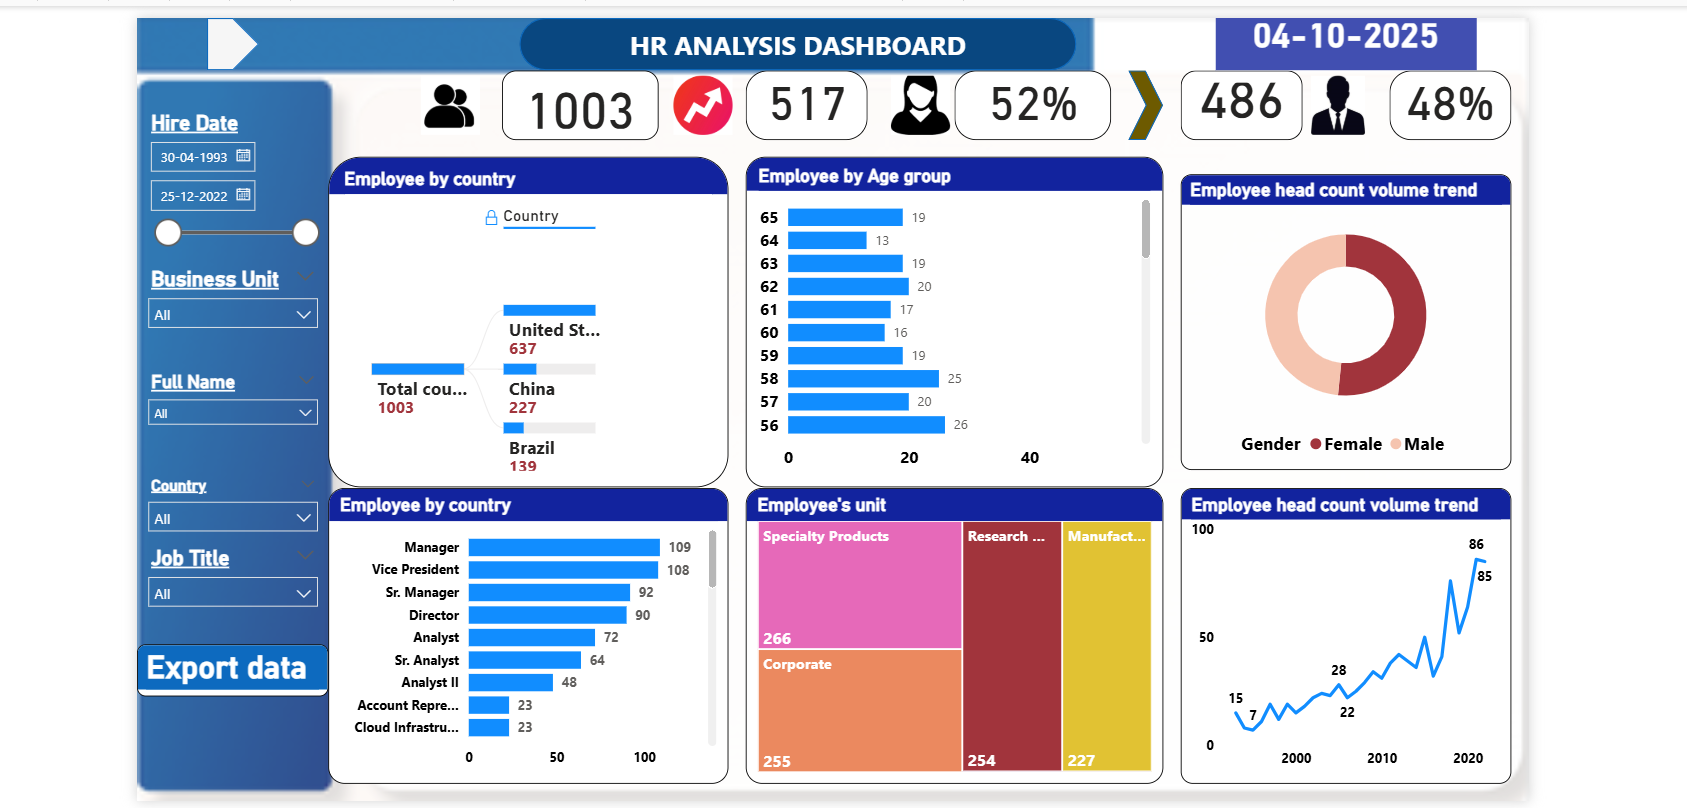

The dashboard page shown, as its layout file describes it:
{"tool":"powerbi","page":{"name":"HR Analysis","canvas":[1280,720],"ordinal":0},"visuals":[{"type":"card","fields":{"Values":["Employee Data.total_count"]},"box":[336,48,144,64],"z":0},{"type":"image","box":[240,48,96,64],"z":1000},{"type":"lineChart","title":"Employee head count volume trend","fields":{"Category":["Employee Data.Hire Date.Variation.Date Hierarchy.Year"],"Y":["CountNonNull(Employee Data.Employee ID)"]},"box":[960,432,304,272],"z":2000},{"type":"donutChart","title":"Employee head count volume trend","fields":{"Y":["CountNonNull(Employee Data.Employee ID)"],"Category":["Employee Data.Gender"]},"box":[960,144,304,272],"z":3000},{"type":"clusteredBarChart","title":"Employee by Age group","fields":{"Category":["Employee Data.Age"],"Y":["CountNonNull(Employee Data.Employee ID)"]},"box":[560,128,384,304],"z":4000},{"type":"decompositionTreeVisual","title":"Employee by country","fields":{"ExplainBy":["Employee Data.Country"],"Analyze":["CountNonNull(Employee Data.Country)"]},"box":[176,128,368,304],"z":5000},{"type":"treemap","title":"Employee''s unit","fields":{"Group":["Employee Data.Business Unit"],"Values":["CountNonNull(Employee Data.Employee ID)"]},"box":[560,432,384,272],"z":6000},{"type":"clusteredBarChart","title":"Employee by country","fields":{"Category":["Employee Data.Job Title"],"Y":["CountNonNull(Employee Data.Employee ID)"]},"box":[176,432,368,272],"z":7000},{"type":"image","box":[688,48,64,64],"z":8000},{"type":"card","fields":{"Values":["Employee Data.total_female_count"]},"box":[560,48,112,64],"z":9000},{"type":"image","box":[1072,48,64,64],"z":10000},{"type":"card","fields":{"Values":["Employee Data.total_male_count"]},"box":[960,48,112,64],"z":11000},{"type":"card","fields":{"Values":["Employee Data.male%"]},"box":[1152,48,112,64],"z":12000},{"type":"card","fields":{"Values":["Employee Data.female%"]},"box":[752,48,144,64],"z":13000},{"type":"shape","box":[352,0,512,48],"z":14000},{"type":"slicer","fields":{"Values":["Employee Data.Business Unit"]},"box":[0,224,176,96],"z":15000},{"type":"shape","box":[912,48,32,64],"z":16000},{"type":"image","box":[480,48,80,64],"z":17000},{"type":"slicer","fields":{"Values":["Employee Data.Job Title"]},"box":[0,480,176,96],"z":18000},{"type":"slicer","fields":{"Values":["Employee Data.Country"]},"box":[0,416,176,64],"z":19000},{"type":"slicer","fields":{"Values":["Employee Data.Hire Date"]},"box":[0,80,176,160],"z":20000},{"type":"card","fields":{"Values":["Min(Query1.date)"]},"box":[992,0,240,48],"z":21000},{"type":"shape","box":[32,0,48,48],"z":22000},{"type":"slicer","fields":{"Values":["Employee Data.Full Name"]},"box":[0,320,176,80],"z":23000},{"type":"tableEx","title":"Export data","fields":{"Values":["Employee Data.Full Name","Employee Data.Gender","Employee Data.Employee ID"]},"box":[0,576,176,48],"z":24000}]}

Visuals, with their boxes on the page's 1280x720 design canvas (x1, y1, x2, y2). These are canvas units, not pixel positions in the 1687x808 screenshot, which may show the page scaled, cropped or inside an application window:
card - Employee Data.total_count: 336/48/480/112
image: 240/48/336/112
"Employee head count volume trend" lineChart: 960/432/1264/704
"Employee head count volume trend" donutChart: 960/144/1264/416
"Employee by Age group" clusteredBarChart: 560/128/944/432
"Employee by country" decompositionTreeVisual: 176/128/544/432
"Employee''s unit" treemap: 560/432/944/704
"Employee by country" clusteredBarChart: 176/432/544/704
image: 688/48/752/112
card - Employee Data.total_female_count: 560/48/672/112
image: 1072/48/1136/112
card - Employee Data.total_male_count: 960/48/1072/112
card - Employee Data.male%: 1152/48/1264/112
card - Employee Data.female%: 752/48/896/112
shape: 352/0/864/48
slicer - Employee Data.Business Unit: 0/224/176/320
shape: 912/48/944/112
image: 480/48/560/112
slicer - Employee Data.Job Title: 0/480/176/576
slicer - Employee Data.Country: 0/416/176/480
slicer - Employee Data.Hire Date: 0/80/176/240
card - Min(Query1.date): 992/0/1232/48
shape: 32/0/80/48
slicer - Employee Data.Full Name: 0/320/176/400
"Export data" tableEx: 0/576/176/624
